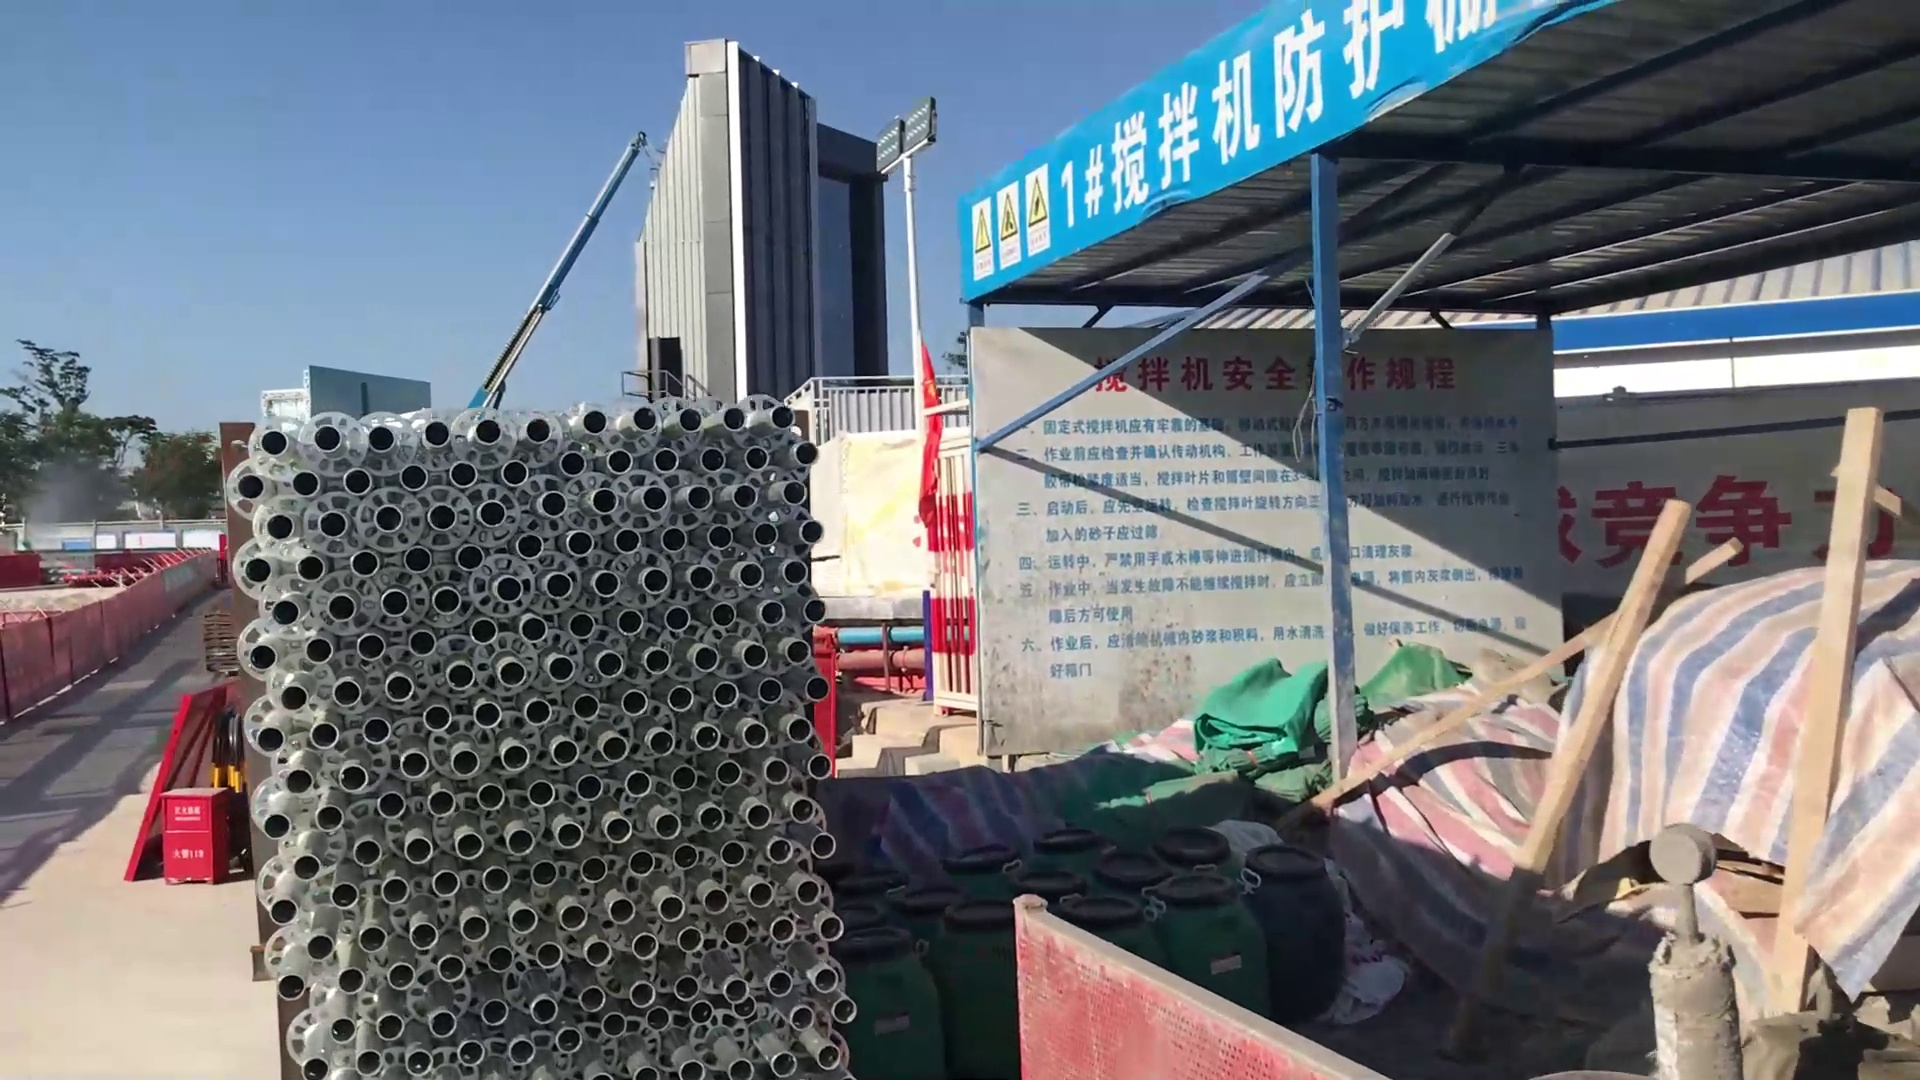fence: (1005, 895, 1408, 1080), (200, 704, 251, 800)
scaffold: (236, 411, 831, 1080)
